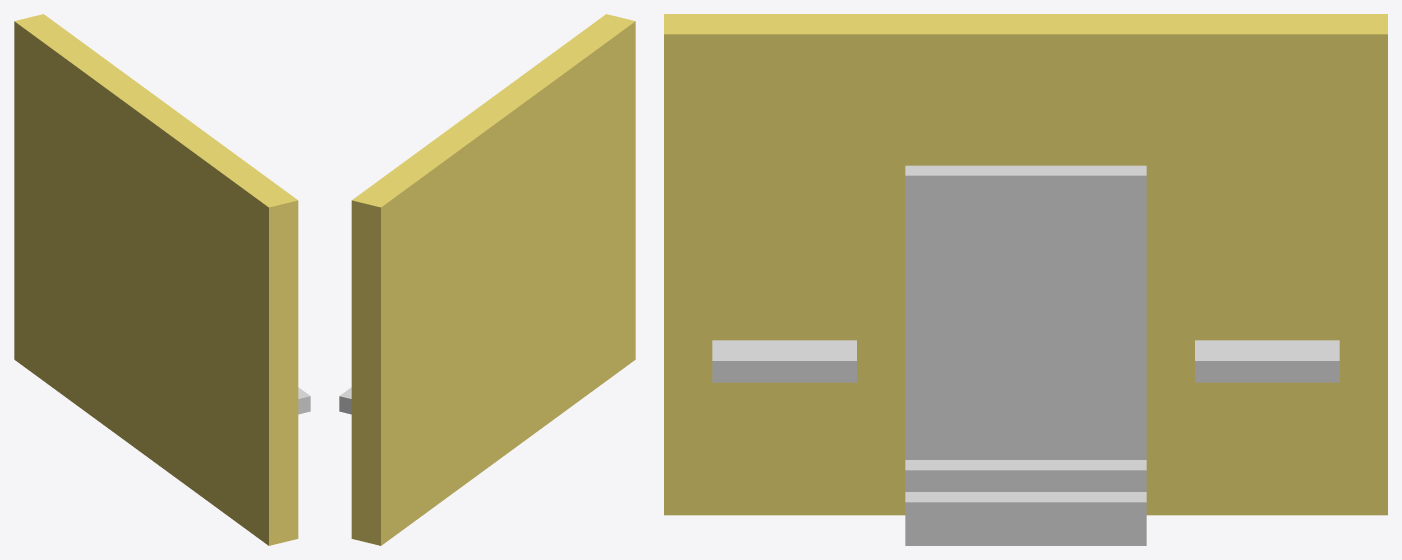
The model's file is ScenV4_001.fbx.
3 renders of one model, left to right at view 1: azimuth 30°, elevation 25°; view 2: azimuth 150°, elevation 25°; view 3: azimuth 270°, elevation 25°, orthographic. The views are drawn at different scales.
Visible parts, largest first — view 1: Wall_dor; view 2: Wall_dor; view 3: Wall_dor, dor, Shell_2, shell_1.
Part boxes in pixels (x1,y1,x2,y2): Wall_dor: (14,14,298,545); Wall_dor: (351,14,635,545); Wall_dor: (664,14,1387,515); dor: (905,165,1146,545); Shell_2: (712,340,856,382); shell_1: (1195,340,1339,382).
Bounding box in the file's own units: 250 × 1100 × 1500.
